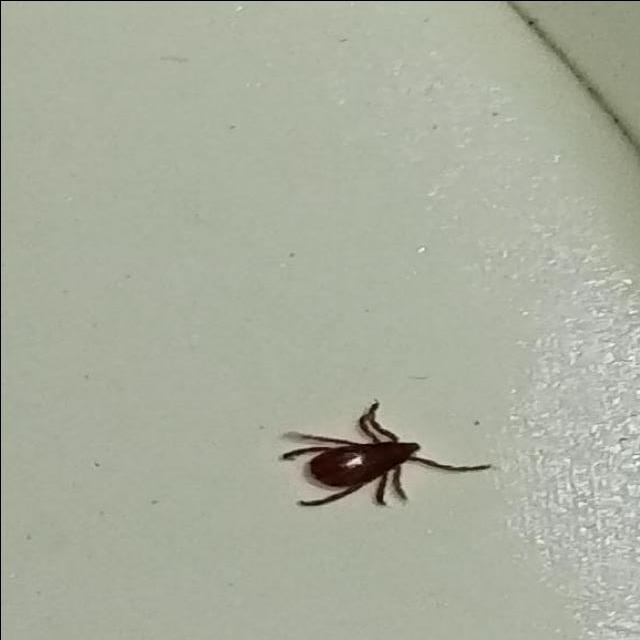Rhipicephalus Sanguineus-M: (281, 406, 495, 510)
